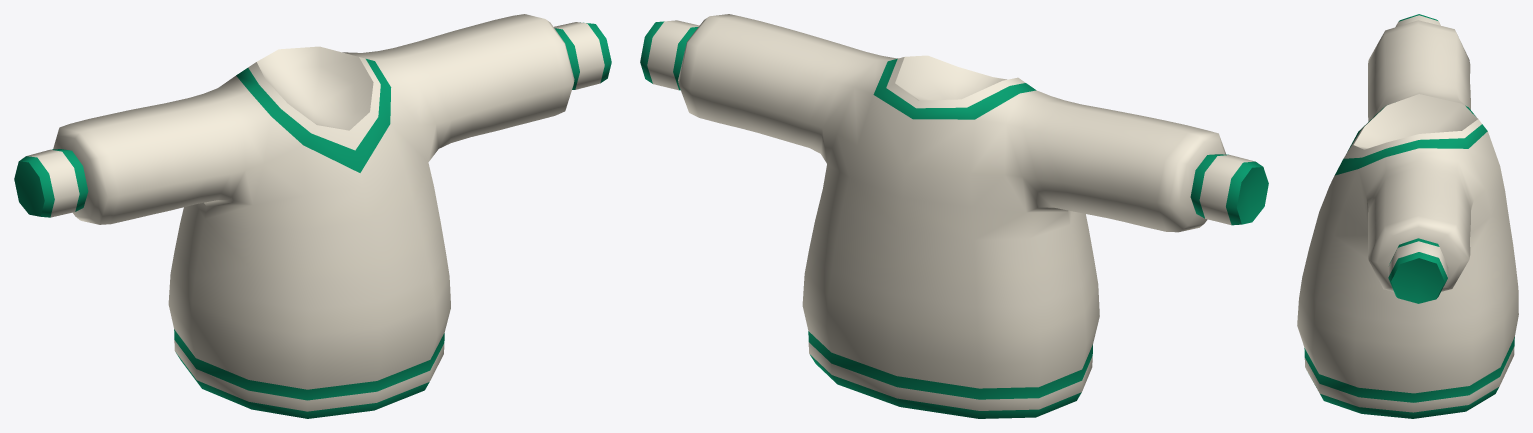
The model's file is Top_34.fbx.
The picture shows the model from 3 angles, left to right: view 1: azimuth 30°, elevation 25°; view 2: azimuth 150°, elevation 25°; view 3: azimuth 270°, elevation 25°; orthographic projection. The views are drawn at different scales.
Parts seen in each view (by area): view 1: Top_34; view 2: Top_34; view 3: Top_34.
Boxes of the visible parts, box(x1,y1,x2,y2) form: Top_34: box(14, 14, 611, 418); Top_34: box(640, 14, 1268, 418); Top_34: box(1297, 14, 1518, 418).
Bounding box in the file's own units: 95.16 × 47.61 × 36.54.
